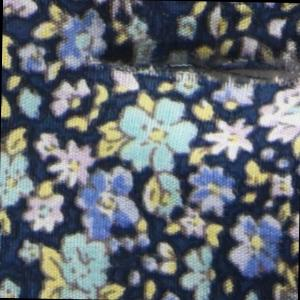Damage: (73, 1, 300, 96)
